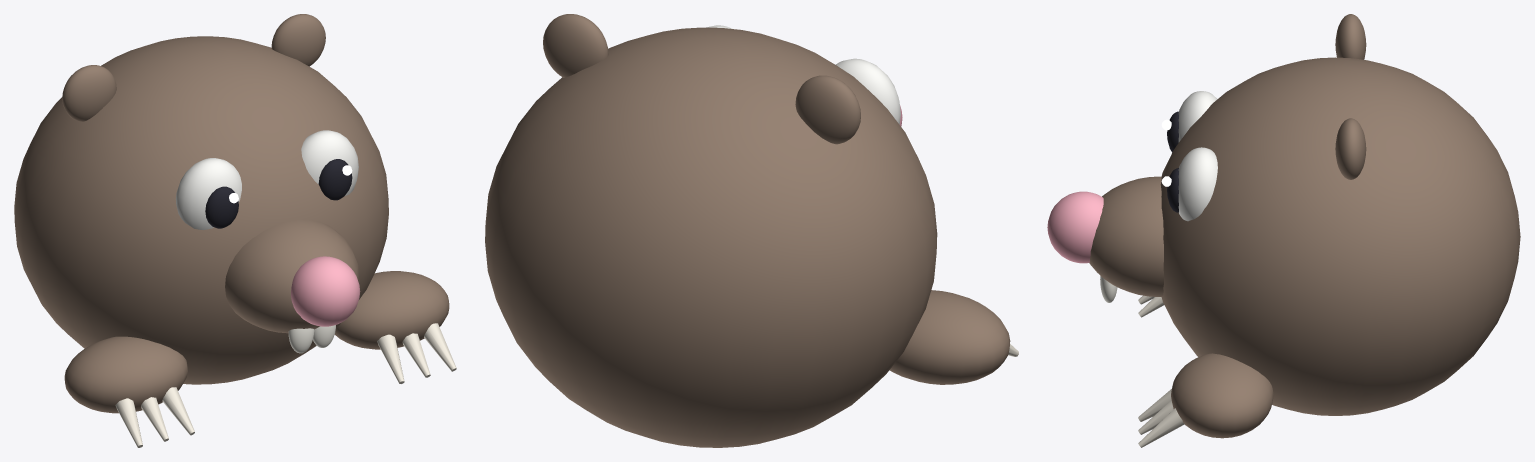
File: digger.glb
3 renders of one model, left to right at view 1: azimuth 30°, elevation 25°; view 2: azimuth 150°, elevation 25°; view 3: azimuth 270°, elevation 25°, orthographic. The views are drawn at different scales.
Visible parts, largest first — view 1: digger; view 2: digger; view 3: digger.
Boxes of the visible parts, <box> form: digger: <box>14,14,456,447</box>; digger: <box>485,14,1018,447</box>; digger: <box>1047,14,1520,447</box>.
Size of the model in its own units: 0.86 by 0.702 by 0.92.
